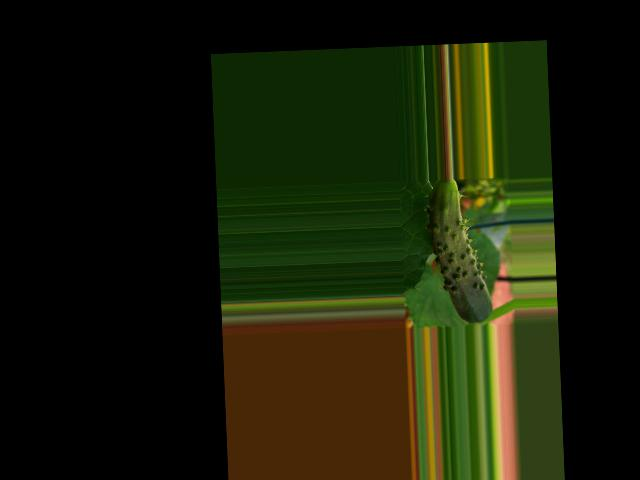cucumber: (425, 178, 492, 325)
